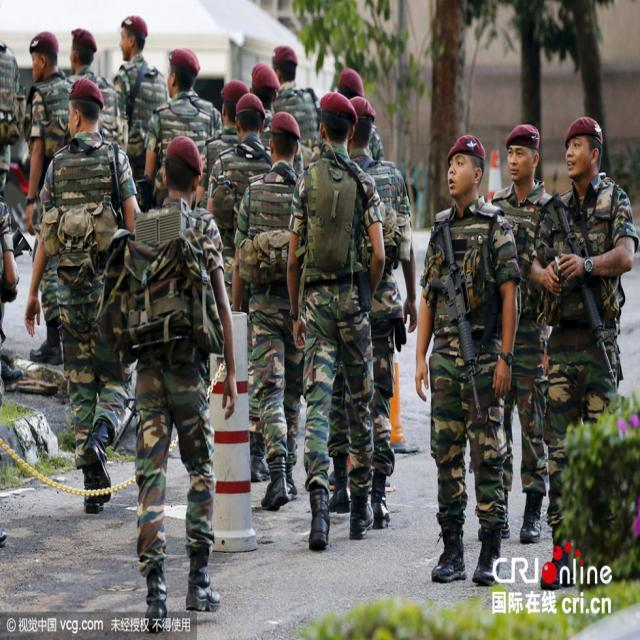m16: (411, 179, 527, 468)
